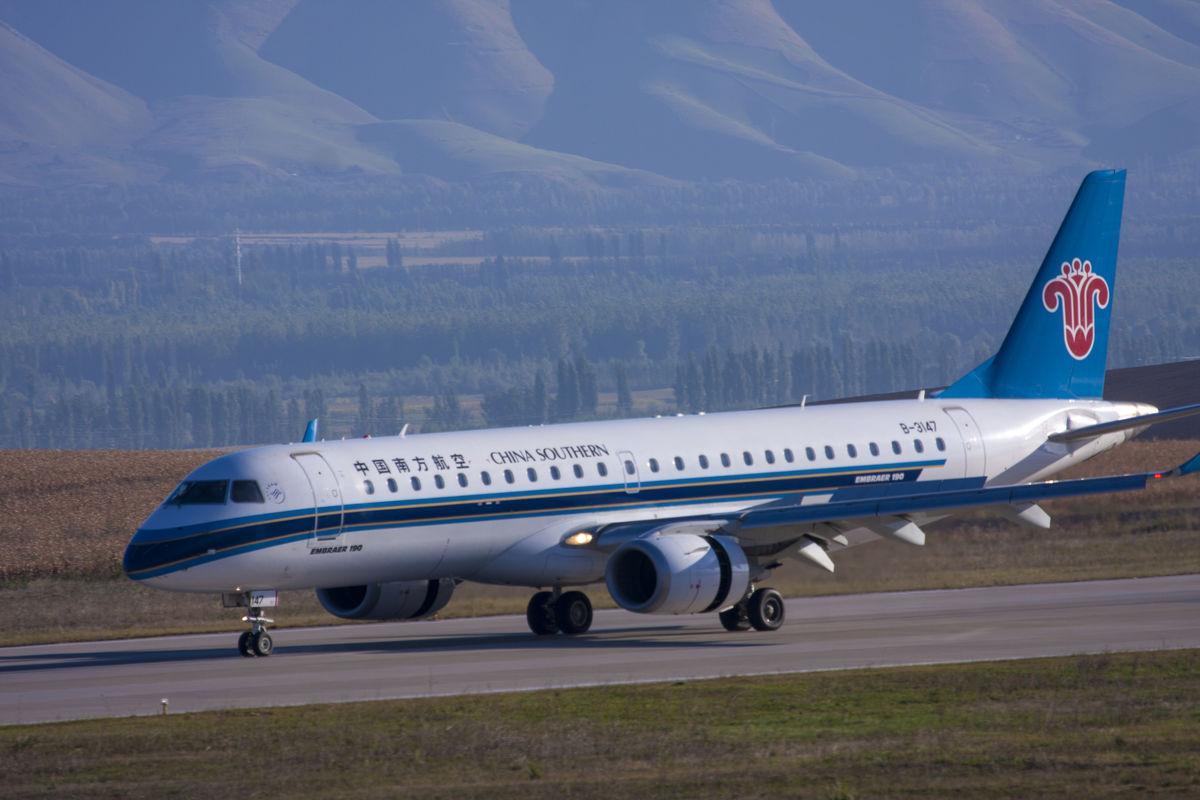airplane: (110, 163, 1189, 658)
